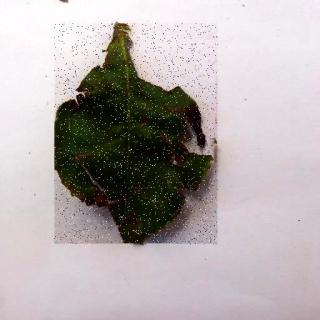Algal Leaf: (56, 25, 220, 246)
